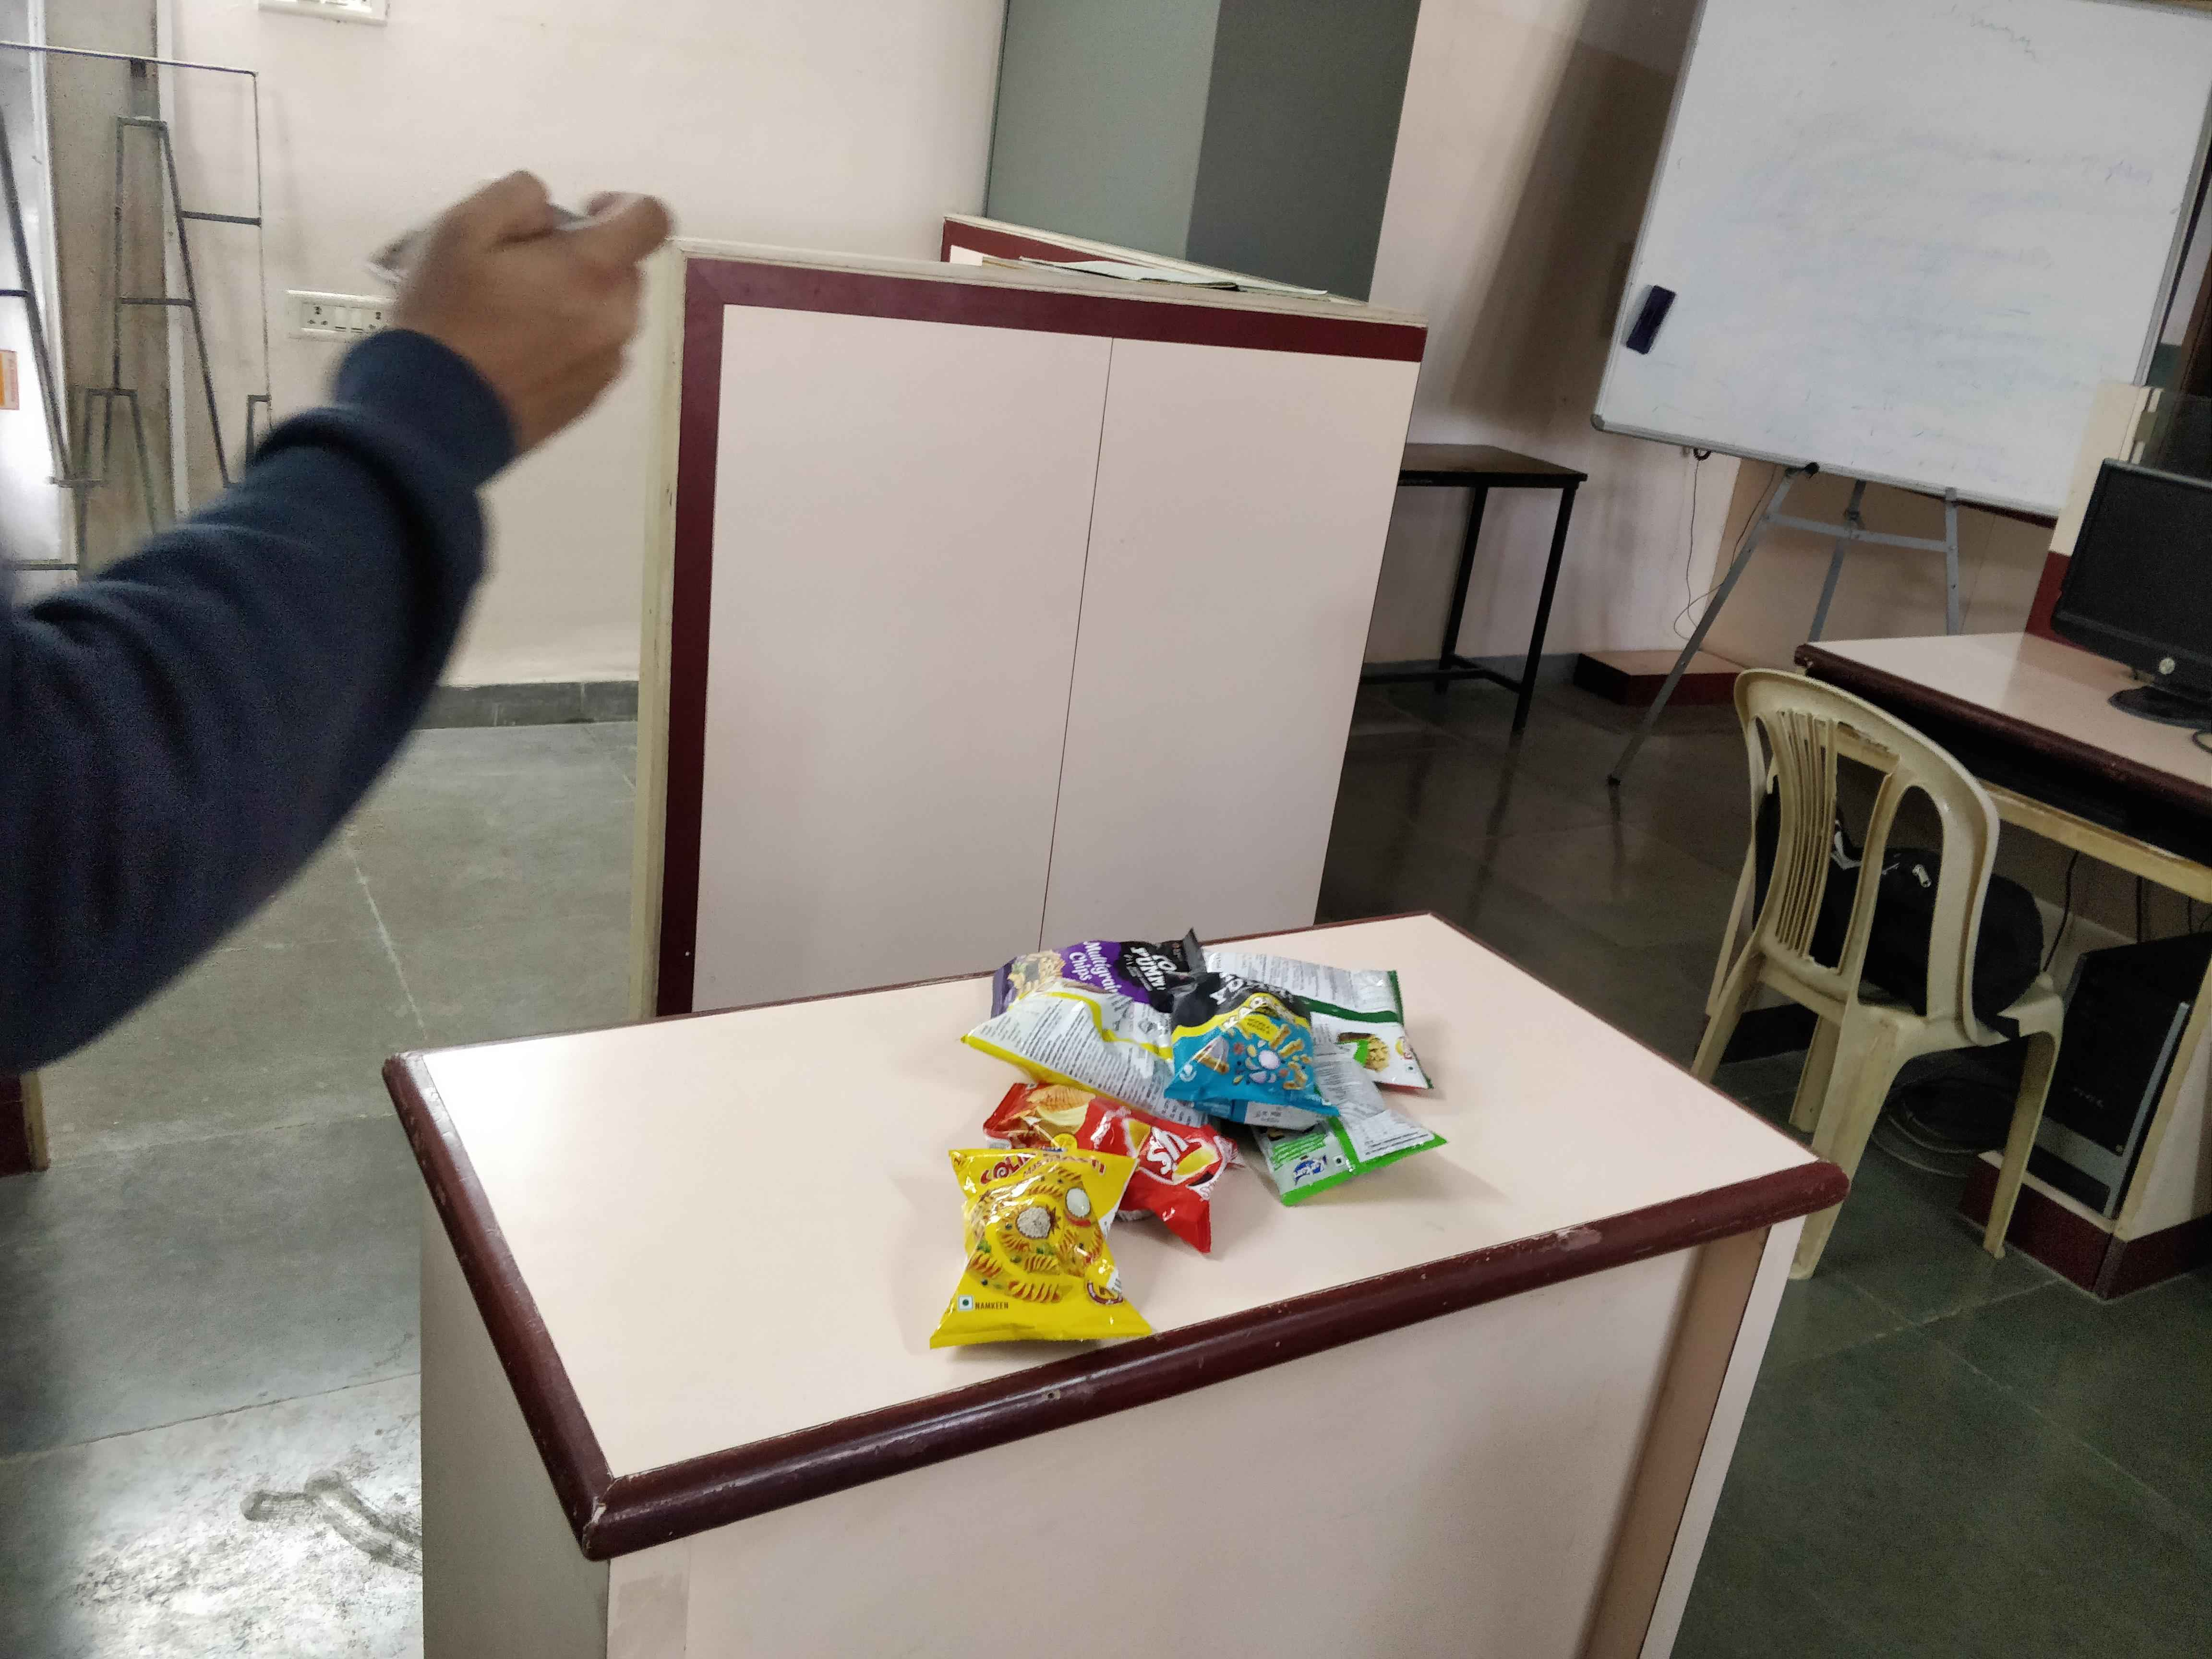Lays: (1118, 1115, 1223, 1178), (1393, 1033, 1413, 1065)
kurkure: (1285, 1157, 1336, 1175)
tooyumm: (1202, 969, 1310, 1016), (1130, 943, 1177, 993)
